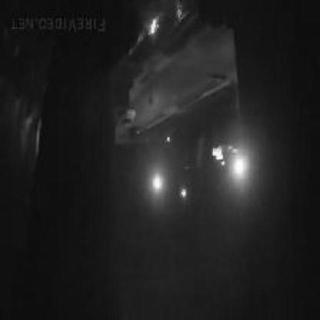other: (208, 130, 266, 203), (142, 164, 198, 204)
